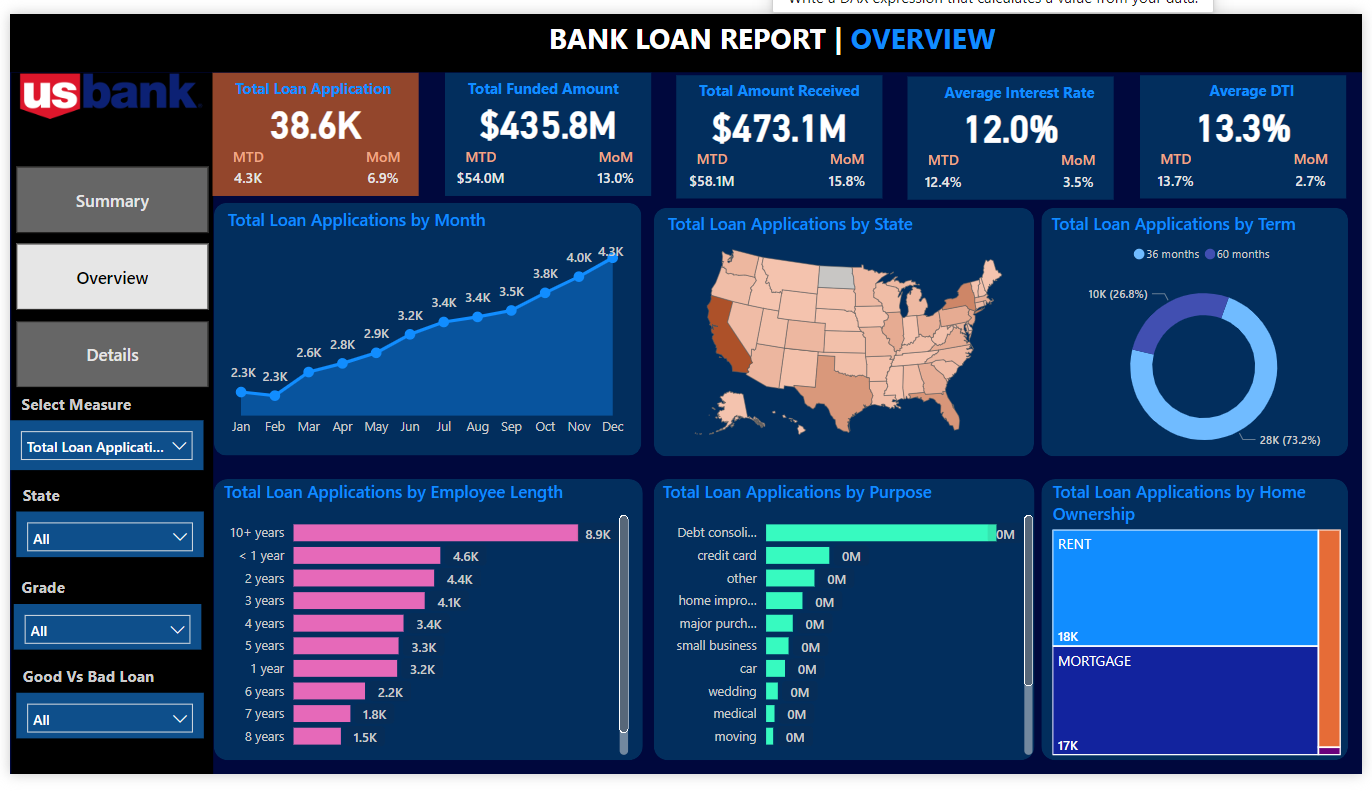

Layout of this report page (visuals, bound fields, positions):
{"tool":"powerbi","page":{"name":"Overview","canvas":[1280,720],"ordinal":1},"visuals":[{"type":"shape","box":[411.6,55.1,195.6,116.7],"z":0,"group":"g2"},{"type":"shape","box":[192.2,55.6,195.6,116.7],"z":0,"group":"g4"},{"type":"shape","box":[1.4,55.7,191.4,664.3],"z":0},{"type":"shape","box":[630.4,57.8,195.6,116.7],"z":0,"group":"g3"},{"type":"shape","box":[1069.4,57.8,195.6,116.7],"z":0,"group":"g8"},{"type":"shape","box":[849.2,59.2,195.6,116.7],"z":0,"group":"g7"},{"type":"shape","box":[609.4,182.9,360,235.4],"z":0,"group":"g9"},{"type":"card","fields":{"Values":["bank_loan_data.Total Funded Amount"]},"box":[411.6,70.7,195.6,63.3],"z":1000,"group":"g2"},{"type":"card","fields":{"Values":["bank_loan_data.Total Loan Applications"]},"box":[192.2,71.2,195.6,63.3],"z":1000,"group":"g4"},{"type":"card","fields":{"Values":["bank_loan_data.Total Amount Received"]},"box":[630.4,73.4,195.6,63.3],"z":1000,"group":"g3"},{"type":"card","fields":{"Values":["bank_loan_data.Average DTI"]},"box":[1069.4,73.4,195.6,63.3],"z":1000,"group":"g8"},{"type":"card","fields":{"Values":["bank_loan_data.Avg Interest Rate"]},"box":[849.2,74.8,195.6,63.3],"z":1000,"group":"g7"},{"type":"shape","box":[192.4,178.9,404.9,239.4],"z":1000},{"type":"shapeMap","fields":{"Value":["bank_loan_data.Total Loan Applications"],"Category":["bank_loan_data.address_state"]},"box":[617.5,186.9,352.4,226],"z":1000,"group":"g9"},{"type":"textbox","box":[6.7,439.9,178.9,30.9],"z":1000},{"type":"shape","box":[0,0,1280.5,55.1],"z":2000},{"type":"textbox","box":[428.3,55.1,178.9,31.1],"z":2000,"group":"g2"},{"type":"textbox","box":[208.9,55.6,178.9,31.1],"z":2000,"group":"g4"},{"type":"textbox","box":[647.1,57.8,178.9,31.1],"z":2000,"group":"g3"},{"type":"textbox","box":[1086.1,57.8,178.9,31.1],"z":2000,"group":"g8"},{"type":"textbox","box":[865.9,59.2,178.9,31.1],"z":2000,"group":"g7"},{"type":"textbox","box":[505.8,0,452,49.8],"z":3000},{"type":"card","title":"MTD","fields":{"Values":["bank_loan_data.MTD Funded Amount"]},"box":[411.6,125.1,67.8,46.7],"z":3000,"group":"g2"},{"type":"card","title":"MTD","fields":{"Values":["bank_loan_data.MTD Loan Applications"]},"box":[192.2,125.6,67.8,46.7],"z":3000,"group":"g4"},{"type":"card","title":"MTD","fields":{"Values":["bank_loan_data.MTD Amount Received"]},"box":[630.4,127.8,67.8,46.7],"z":3000,"group":"g3"},{"type":"card","title":"MTD","fields":{"Values":["bank_loan_data.MTD Avg DTI"]},"box":[1069.4,127.8,67.8,46.7],"z":3000,"group":"g8"},{"type":"card","title":"MTD","fields":{"Values":["bank_loan_data.MTD Avg Interest Rate"]},"box":[849.2,129.2,67.8,46.7],"z":3000,"group":"g7"},{"type":"group","id":"g1","title":"Group 1","box":[192.2,55.6,195.6,116.7],"z":4000},{"type":"card","title":"MoM","fields":{"Values":["bank_loan_data.MoM Funded Amount"]},"box":[539.4,125.1,67.8,46.7],"z":4000,"group":"g2"},{"type":"card","title":"MoM","fields":{"Values":["bank_loan_data.MoM Loan Application"]},"box":[320,125.6,67.8,46.7],"z":4000,"group":"g4"},{"type":"card","title":"MoM","fields":{"Values":["bank_loan_data.MoM Amount Received"]},"box":[758.2,127.8,67.8,46.7],"z":4000,"group":"g3"},{"type":"card","title":"MoM","fields":{"Values":["bank_loan_data.MoM Average DTI"]},"box":[1197.2,127.8,67.8,46.7],"z":4000,"group":"g8"},{"type":"card","title":"MoM","fields":{"Values":["bank_loan_data.MoM Avg Interest Rate"]},"box":[977,129.2,67.8,46.7],"z":4000,"group":"g7"},{"type":"group","id":"g2","title":"Group 3","box":[411.6,55.1,195,117],"z":4001,"group":"g5"},{"type":"group","id":"g3","title":"Group 4","box":[630.4,57.8,195.6,116.7],"z":4002,"group":"g6"},{"type":"group","id":"g4","title":"Group 2","box":[192.2,55.6,195.6,116.7],"z":4005,"group":"g1"},{"type":"group","id":"g5","title":"Group 2","box":[411.6,55.1,195,117],"z":5000},{"type":"group","id":"g6","title":"Group 3","box":[630.4,57.8,195,117],"z":6000},{"type":"group","id":"g7","title":"Group 4","box":[849.2,59.2,196.4,117],"z":7000},{"type":"group","id":"g8","title":"Group 4","box":[1069.4,57.8,196.4,117],"z":8000},{"type":"slicer","fields":{"Values":["bank_loan_data.address_state"]},"box":[5.4,470.8,177.6,43],"z":9000},{"type":"slicer","fields":{"Values":["bank_loan_data.grade"]},"box":[4,558.2,177.6,43],"z":10000},{"type":"textbox","box":[5.4,527.3,178.9,30.9],"z":11000},{"type":"slicer","fields":{"Values":["bank_loan_data.Good Vs Bad Loan"]},"box":[5.4,643,177.6,43],"z":12000},{"type":"textbox","box":[6.7,612,178.9,30.9],"z":13000},{"type":"slicer","fields":{"Values":["Select Measure.Select Measure"]},"box":[0,384.3,182.9,47.1],"z":14000},{"type":"areaChart","fields":{"Y":["bank_loan_data.Total Loan Applications"],"Category":["Date Table.Month"]},"box":[200.9,182.9,387.4,226],"z":15000},{"type":"textbox","box":[5.7,354.3,178.6,30],"z":15000},{"type":"group","id":"g9","title":"Group 6","box":[609.4,182.9,360.5,235.4],"z":16001},{"type":"shape","box":[976.6,182.9,290.5,235.4],"z":16002},{"type":"donutChart","fields":{"Category":["bank_loan_data.term"],"Y":["bank_loan_data.Total Loan Applications"]},"box":[981.4,187,298.6,244.8],"z":16003},{"type":"shape","box":[192.4,439.9,406.2,266.3],"z":16004},{"type":"barChart","fields":{"Category":["bank_loan_data.emp_length"],"Y":["bank_loan_data.Total Loan Applications"]},"box":[197.7,439.9,392.8,266.3],"z":16005},{"type":"shape","box":[609.3,439.9,360.5,266.3],"z":16006},{"type":"barChart","fields":{"Category":["bank_loan_data.purpose"],"Y":["bank_loan_data.Total Loan Applications"]},"box":[613.4,439.9,360.5,266.3],"z":16007},{"type":"shape","box":[976.6,439.9,290.5,266.3],"z":16008},{"type":"treemap","fields":{"Group":["bank_loan_data.home_ownership"],"Values":["bank_loan_data.Total Loan Applications"]},"box":[981.9,439.9,282.5,266.3],"z":16009},{"type":"pageNavigator","box":[5.7,144.3,182.9,210],"z":16010},{"type":"image","box":[0,0,191.4,152.9],"z":16011}]}

Visuals, with their boxes on the page's 1280x720 design canvas (x1, y1, x2, y2). These are canvas units, not pixel positions in the 1372x792 screenshot, which may show the page scaled, cropped or inside an application window:
shape: 412, 55, 607, 172
shape: 192, 56, 388, 172
shape: 1, 56, 193, 720
shape: 630, 58, 826, 174
shape: 1069, 58, 1265, 174
shape: 849, 59, 1045, 176
shape: 609, 183, 969, 418
card - bank_loan_data.Total Funded Amount: 412, 71, 607, 134
card - bank_loan_data.Total Loan Applications: 192, 71, 388, 134
card - bank_loan_data.Total Amount Received: 630, 73, 826, 137
card - bank_loan_data.Average DTI: 1069, 73, 1265, 137
card - bank_loan_data.Avg Interest Rate: 849, 75, 1045, 138
shape: 192, 179, 597, 418
shapeMap - bank_loan_data.Total Loan Applications x bank_loan_data.address_state: 618, 187, 970, 413
textbox: 7, 440, 186, 471
shape: 0, 0, 1280, 55
textbox: 428, 55, 607, 86
textbox: 209, 56, 388, 87
textbox: 647, 58, 826, 89
textbox: 1086, 58, 1265, 89
textbox: 866, 59, 1045, 90
textbox: 506, 0, 958, 50
"MTD" card: 412, 125, 479, 172
"MTD" card: 192, 126, 260, 172
"MTD" card: 630, 128, 698, 174
"MTD" card: 1069, 128, 1137, 174
"MTD" card: 849, 129, 917, 176
"Group 1" group: 192, 56, 388, 172
"MoM" card: 539, 125, 607, 172
"MoM" card: 320, 126, 388, 172
"MoM" card: 758, 128, 826, 174
"MoM" card: 1197, 128, 1265, 174
"MoM" card: 977, 129, 1045, 176
"Group 3" group: 412, 55, 607, 172
"Group 4" group: 630, 58, 826, 174
"Group 2" group: 192, 56, 388, 172
"Group 2" group: 412, 55, 607, 172
"Group 3" group: 630, 58, 825, 175
"Group 4" group: 849, 59, 1046, 176
"Group 4" group: 1069, 58, 1266, 175
slicer - bank_loan_data.address_state: 5, 471, 183, 514
slicer - bank_loan_data.grade: 4, 558, 182, 601
textbox: 5, 527, 184, 558
slicer - bank_loan_data.Good Vs Bad Loan: 5, 643, 183, 686
textbox: 7, 612, 186, 643
slicer - Select Measure.Select Measure: 0, 384, 183, 431
areaChart - bank_loan_data.Total Loan Applications x Date Table.Month: 201, 183, 588, 409
textbox: 6, 354, 184, 384
"Group 6" group: 609, 183, 970, 418
shape: 977, 183, 1267, 418
donutChart - bank_loan_data.term x bank_loan_data.Total Loan Applications: 981, 187, 1280, 432
shape: 192, 440, 599, 706
barChart - bank_loan_data.emp_length x bank_loan_data.Total Loan Applications: 198, 440, 590, 706
shape: 609, 440, 970, 706
barChart - bank_loan_data.purpose x bank_loan_data.Total Loan Applications: 613, 440, 974, 706
shape: 977, 440, 1267, 706
treemap - bank_loan_data.home_ownership x bank_loan_data.Total Loan Applications: 982, 440, 1264, 706
pageNavigator: 6, 144, 189, 354
image: 0, 0, 191, 153
